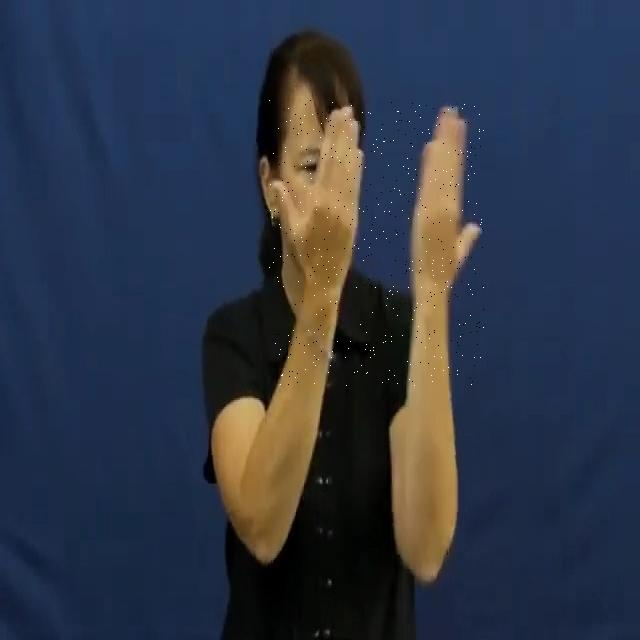menu: (268, 100, 484, 386)
